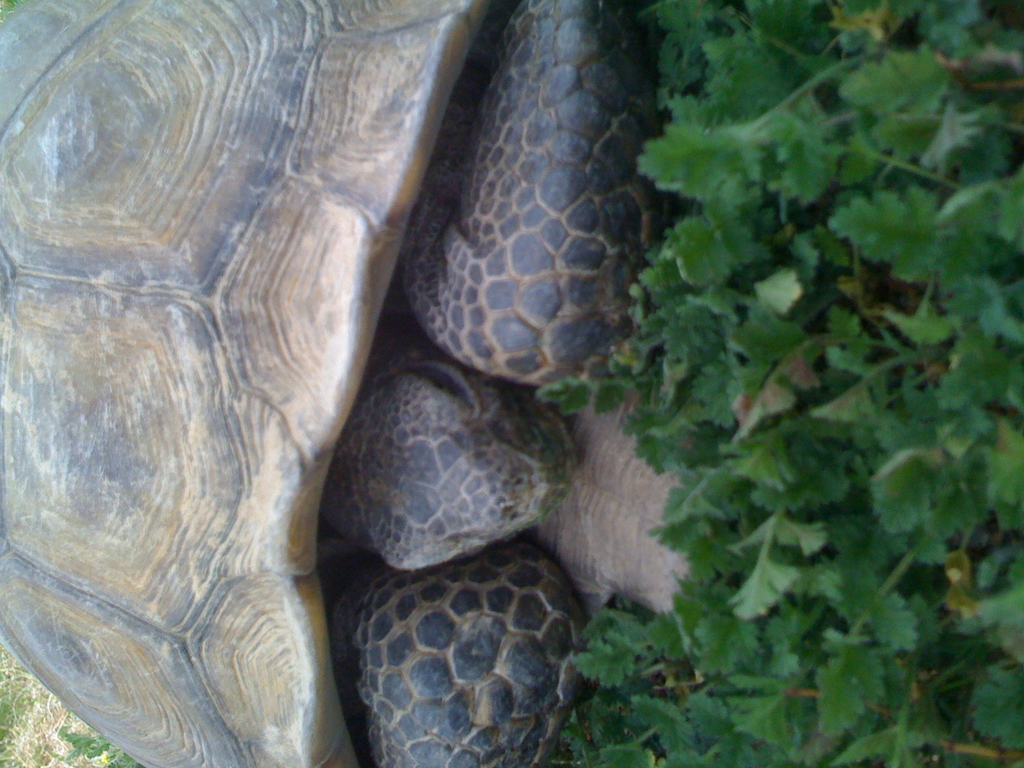Sea turtles: (0, 0, 661, 767)
